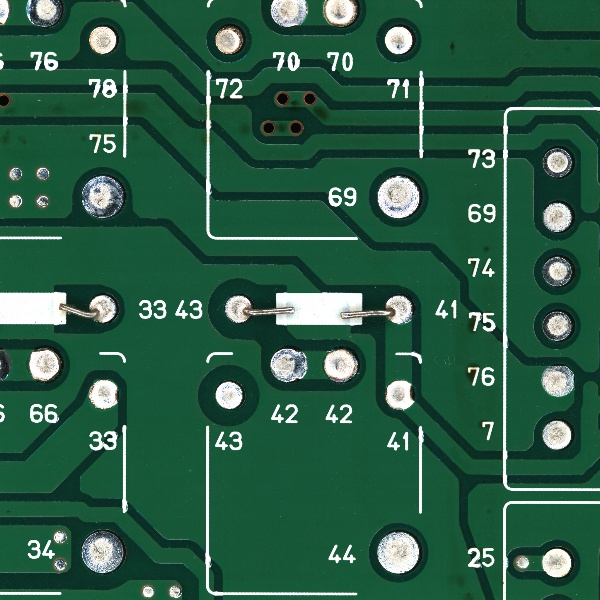Circle: (373, 171, 425, 223), (77, 171, 129, 222), (373, 527, 426, 576), (78, 526, 128, 576), (80, 287, 125, 331), (23, 343, 67, 387), (318, 342, 362, 386), (266, 343, 311, 386), (376, 290, 419, 330), (537, 360, 576, 398), (539, 542, 576, 582), (538, 198, 575, 237), (84, 376, 121, 414), (220, 290, 256, 329), (539, 308, 576, 345), (539, 416, 576, 453), (540, 144, 576, 182), (540, 253, 575, 290), (382, 377, 415, 416), (211, 377, 247, 412), (212, 23, 246, 58), (382, 23, 415, 58), (87, 22, 120, 56)
